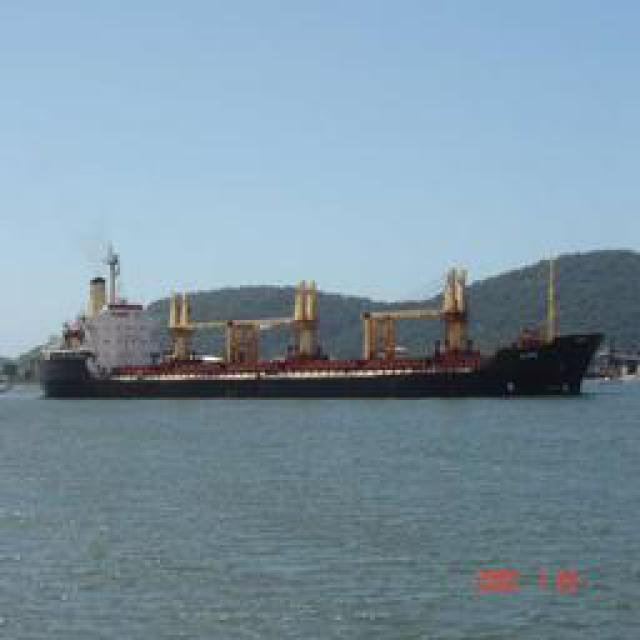Ship: (30, 249, 605, 402)
